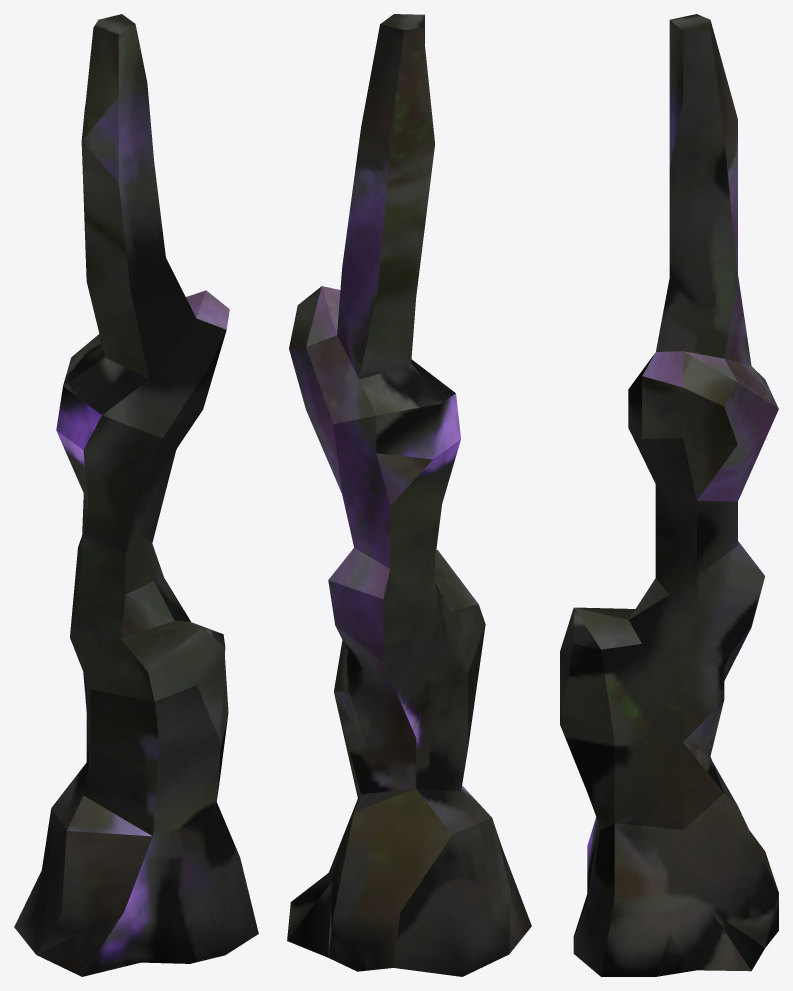
The model's file is BGEAsset3.fbx.
3 renders of one model, left to right at view 1: azimuth 30°, elevation 25°; view 2: azimuth 150°, elevation 25°; view 3: azimuth 270°, elevation 25°, orthographic. The views are drawn at different scales.
Parts seen in each view (by area): view 1: BGEAsset.004; view 2: BGEAsset.004; view 3: BGEAsset.004.
Boxes of the visible parts, <box> form: BGEAsset.004: <box>14,14,258,976</box>; BGEAsset.004: <box>287,14,531,976</box>; BGEAsset.004: <box>560,14,778,976</box>.
Bounding box in the file's own units: 3.32 × 14.26 × 3.13.
1 material, 1 textured.
